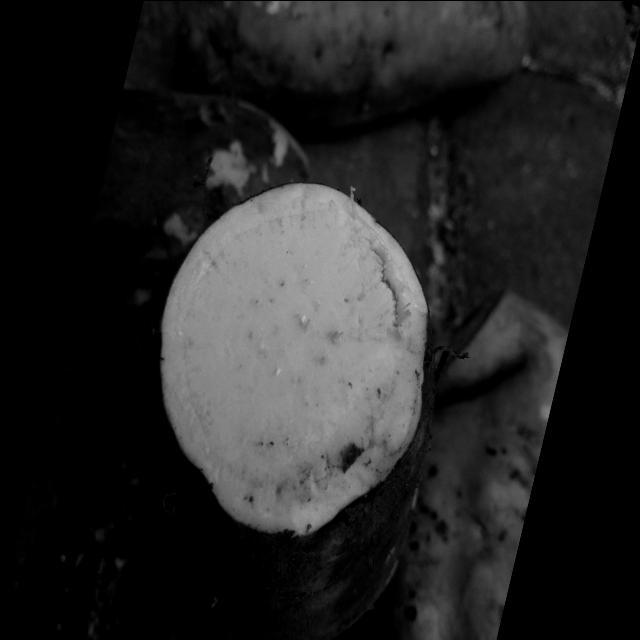Healthy Sweet Potato: (160, 183, 428, 533)
